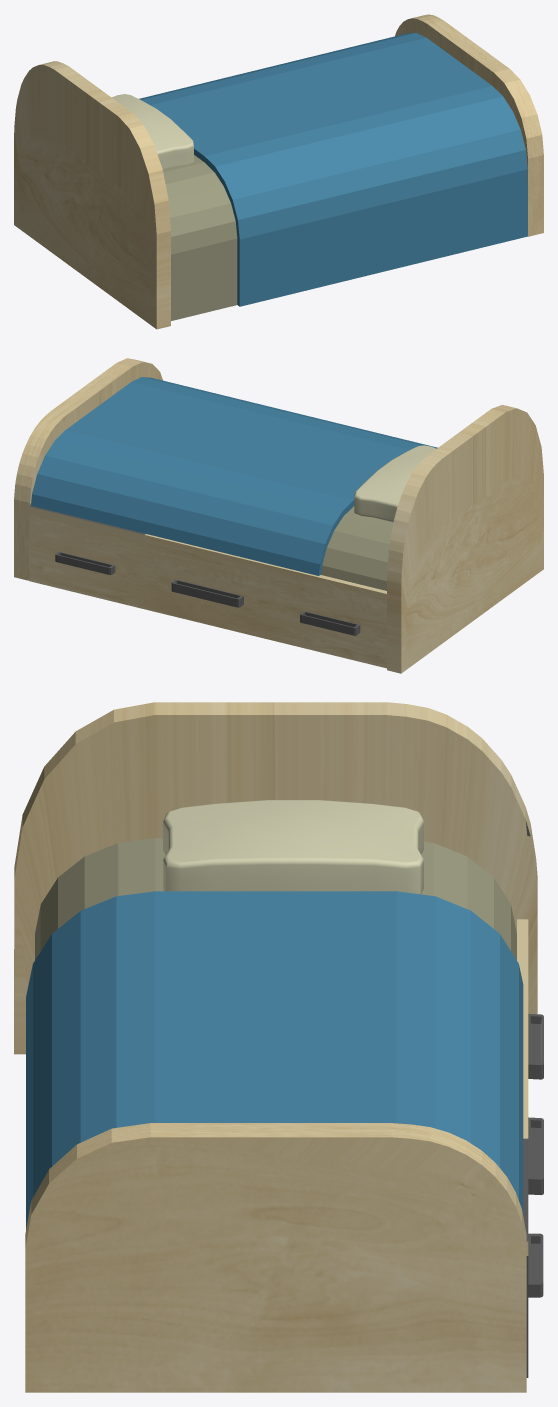
Rendered from Bed.fbx.
3 renders of one model, top to bottom at view 1: azimuth 30°, elevation 25°; view 2: azimuth 150°, elevation 25°; view 3: azimuth 270°, elevation 25°, orthographic. The views are drawn at different scales.
Parts seen in each view (by area): view 1: pCube5, pCube8; view 2: pCube5, pCube8; view 3: pCube5, pCube8.
Boxes of the visible parts, x1,y1,x2,y2 form: pCube5: (14,14,543,329); pCube8: (112,94,193,168); pCube5: (14,358,543,673); pCube8: (354,445,436,522); pCube5: (14,702,543,1392); pCube8: (163,800,423,894).
Size of the model in its own units: 46.09 by 20.98 by 29.55.
5 materials, 1 textured.
